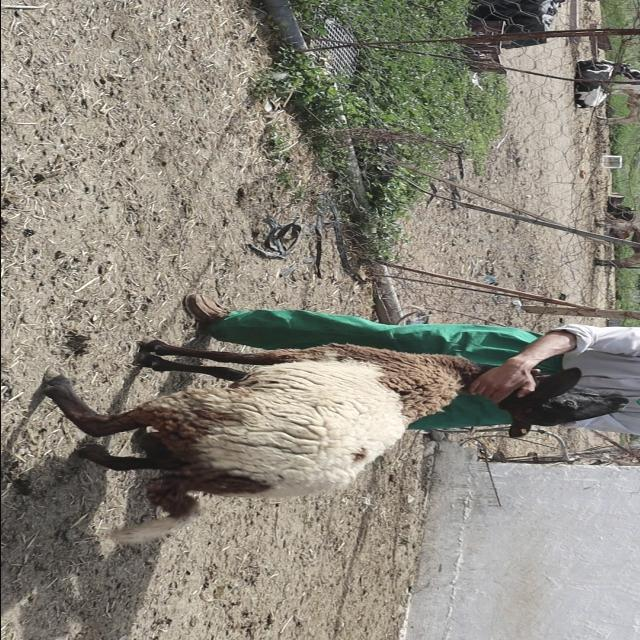Score_2: (45, 340, 482, 543)
